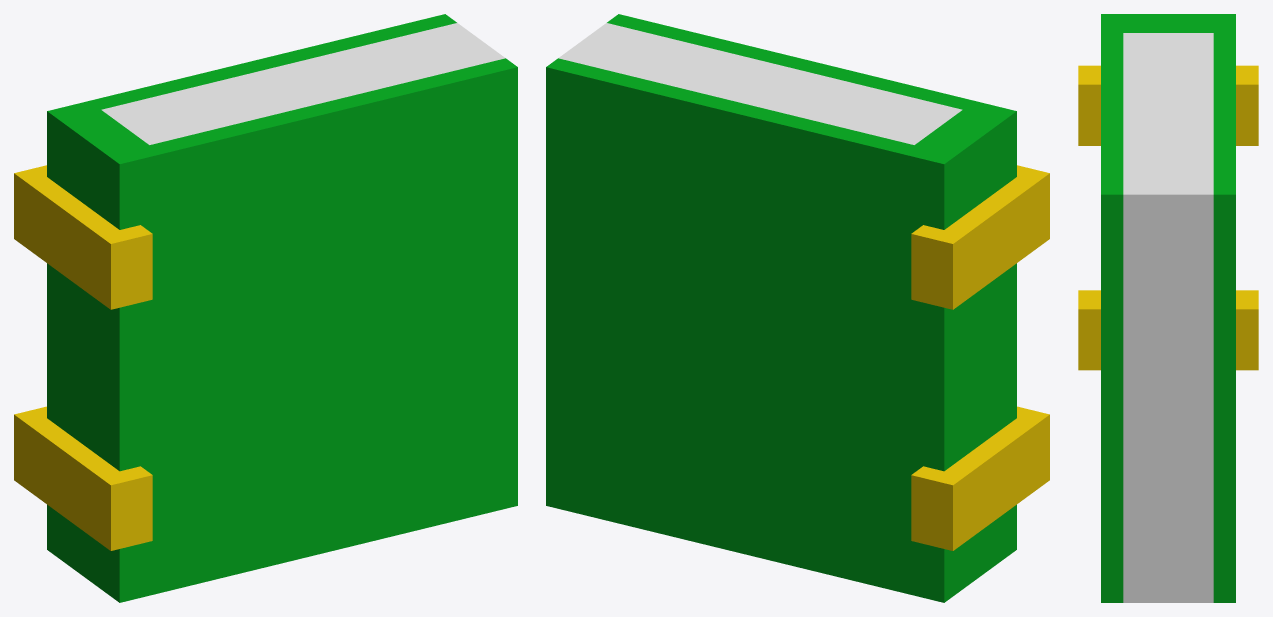
The model's file is SchoolPack-59-book.obj.
3 renders of one model, left to right at view 1: azimuth 30°, elevation 25°; view 2: azimuth 150°, elevation 25°; view 3: azimuth 270°, elevation 25°, orthographic. The views are drawn at different scales.
Parts seen in each view (by area): view 1: book; view 2: book; view 3: book.
Boxes of the visible parts, left/top/right/bottom form: book: left=14, top=14, right=517, bottom=602; book: left=546, top=14, right=1049, bottom=602; book: left=1078, top=14, right=1258, bottom=602.
Bounding box in the file's own units: 2 × 2 × 0.8.
Materials: 1 (1 with a texture image).
